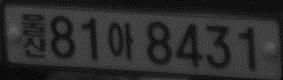1: (237, 27, 262, 70), (81, 17, 104, 61)
3: (205, 24, 232, 68)
4: (177, 23, 203, 68)
8: (50, 14, 76, 59), (146, 20, 172, 65)
아: (107, 21, 134, 62)
울산_V: (20, 12, 47, 58)
